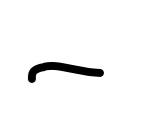minus: (28, 60, 104, 84)
